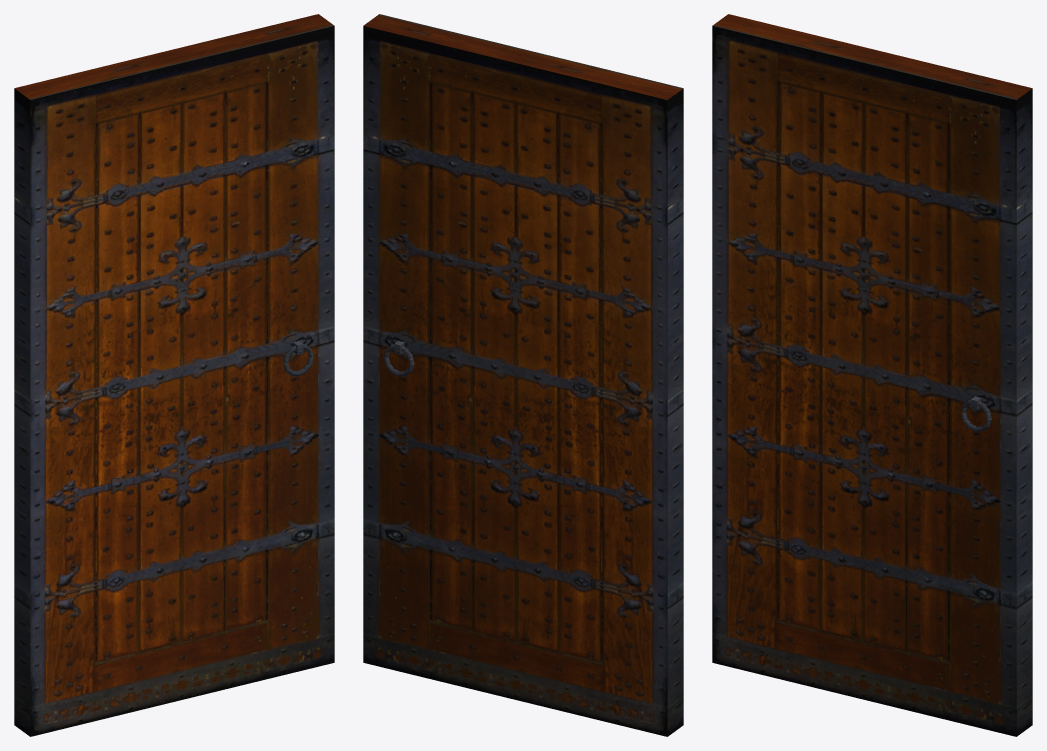
The model's file is svspartadoor5a.dae.
3 renders of one model, left to right at view 1: azimuth 30°, elevation 25°; view 2: azimuth 150°, elevation 25°; view 3: azimuth 330°, elevation 25°, orthographic.
Visible parts, largest first — view 1: cube4_copy67-0; view 2: cube4_copy67-0; view 3: cube4_copy67-0.
Boxes of the visible parts, x1,y1,x2,y2 form: cube4_copy67-0: [14, 14, 334, 736]; cube4_copy67-0: [363, 14, 683, 736]; cube4_copy67-0: [712, 14, 1032, 736].
Size of the model in its own units: 120 by 240 by 16.8.
